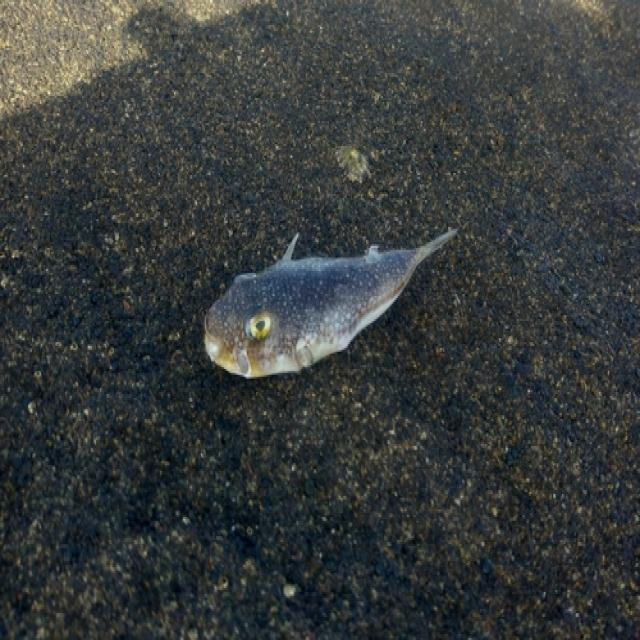Balik: (205, 229, 456, 378)
